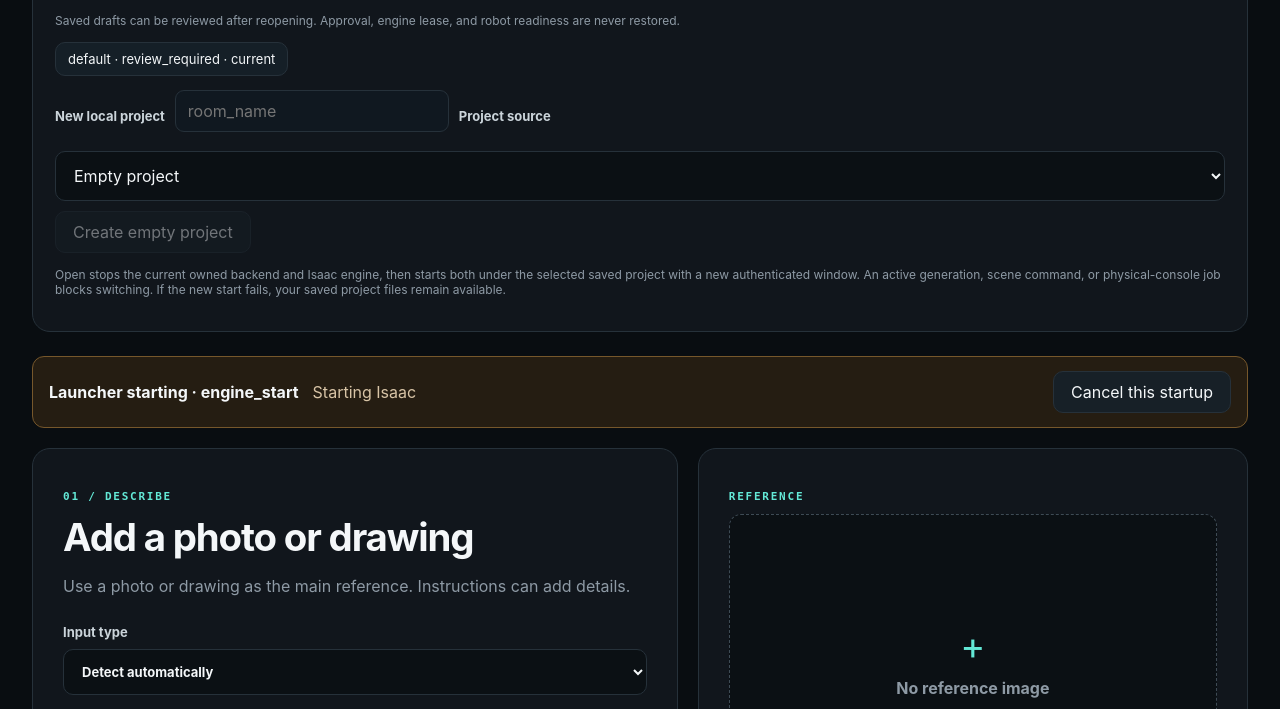
Test: TwinPulse R5 UI › offers a one-shot cancel while the owned engine is starting
(page scrolled)
Click the button "Cancel this startup" at (1142, 392), box x1=1053 y1=371 x2=1231 y2=413
(page scrolled)
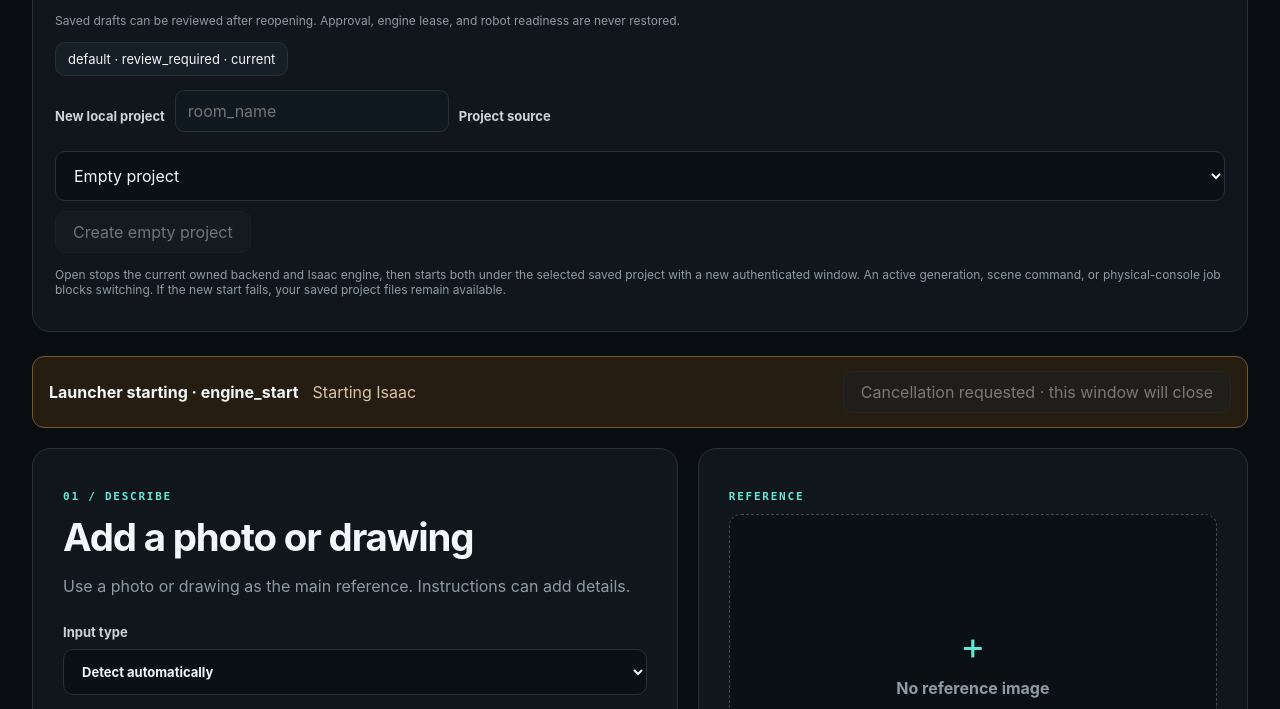
Expected: the button "Cancellation requested · this window will close" is shown, x1=843 y1=371 x2=1231 y2=413
